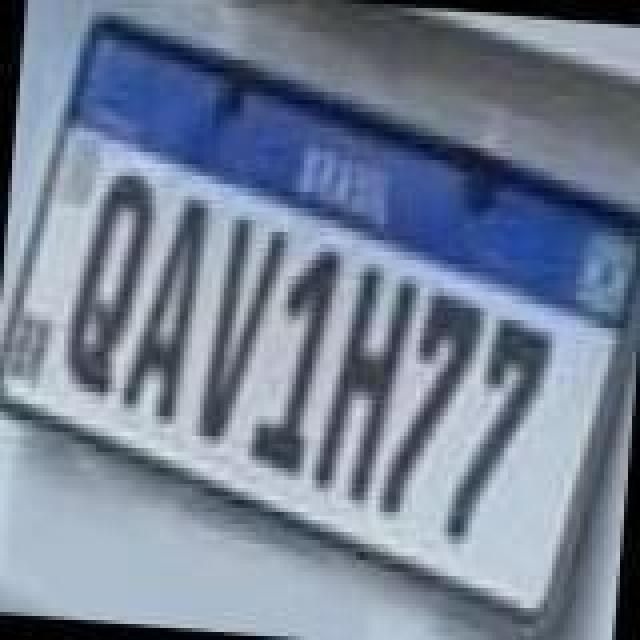1: (244, 240, 348, 480)
7: (440, 314, 560, 550), (376, 292, 488, 524)
A: (122, 192, 214, 424)
H: (310, 258, 426, 510)
Q: (64, 162, 160, 398)
V: (190, 214, 290, 450)
